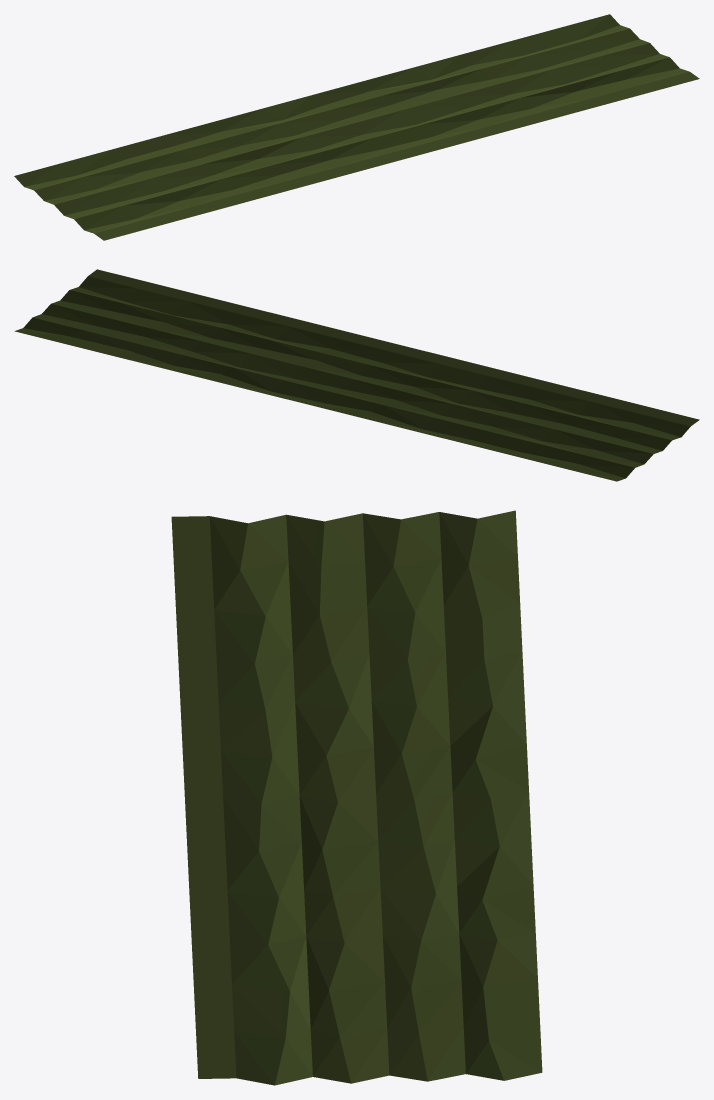
File: groundlayer4violet.fbx
The picture shows the model from 3 angles, top to bottom: view 1: azimuth 30°, elevation 25°; view 2: azimuth 150°, elevation 25°; view 3: azimuth 270°, elevation 25°; orthographic projection. The views are drawn at different scales.
Parts seen in each view (by area): view 1: imagetostl_mesh3, imagetostl_mesh1, imagetostl_mesh0, imagetostl_mesh2; view 2: imagetostl_mesh2, imagetostl_mesh1, imagetostl_mesh0, imagetostl_mesh3; view 3: imagetostl_mesh1, imagetostl_mesh2, imagetostl_mesh3, imagetostl_mesh0.
Boxes of the visible parts, left/top/right/bottom form: imagetostl_mesh3: left=14, top=135, right=252, bottom=240; imagetostl_mesh1: left=312, top=54, right=550, bottom=159; imagetostl_mesh0: left=461, top=14, right=699, bottom=119; imagetostl_mesh2: left=163, top=95, right=401, bottom=200; imagetostl_mesh2: left=316, top=344, right=548, bottom=443; imagetostl_mesh1: left=165, top=307, right=398, bottom=406; imagetostl_mesh0: left=14, top=269, right=247, bottom=368; imagetostl_mesh3: left=467, top=382, right=699, bottom=481; imagetostl_mesh1: left=185, top=791, right=535, bottom=944; imagetostl_mesh2: left=178, top=651, right=528, bottom=804; imagetostl_mesh3: left=171, top=510, right=522, bottom=663; imagetostl_mesh0: left=191, top=932, right=542, bottom=1085.
Size of the model in its own units: 804 by 19.35 by 215.
